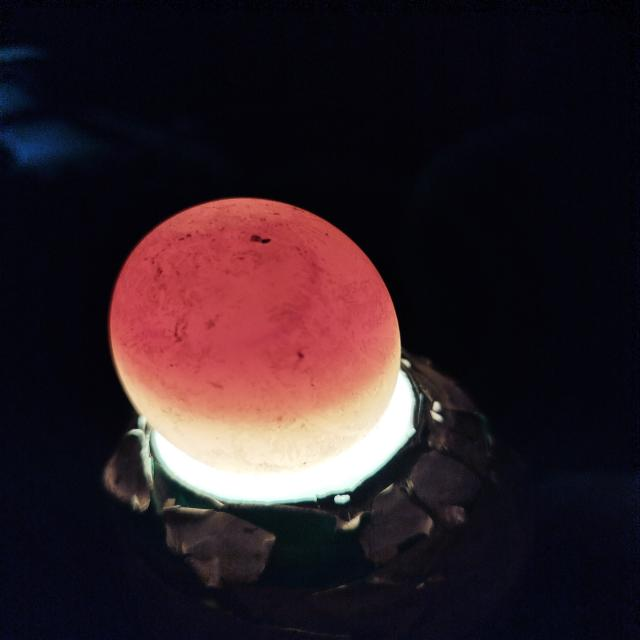Gema Quebrada: (110, 198, 398, 427)
